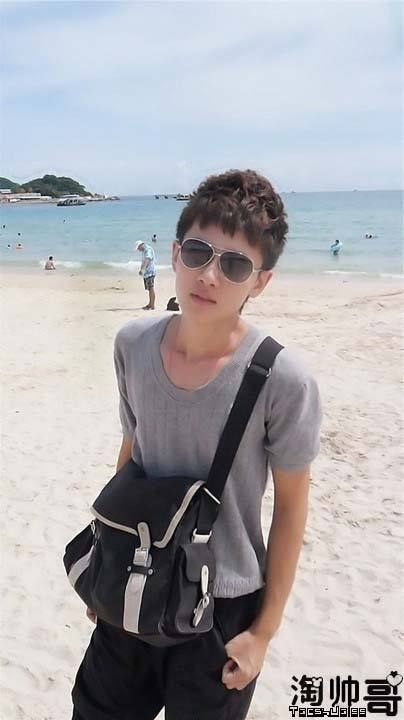person: (99, 164, 334, 720)
